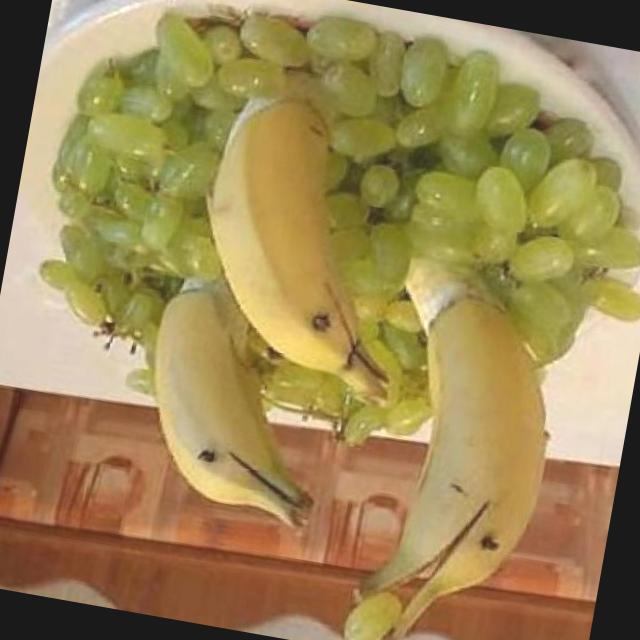Banana: (331, 243, 589, 638), (174, 81, 442, 411), (125, 267, 348, 534)
